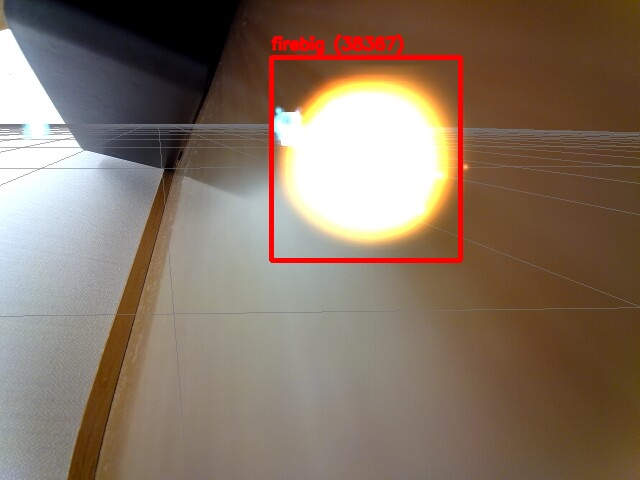firebig: (271, 57, 460, 260)
